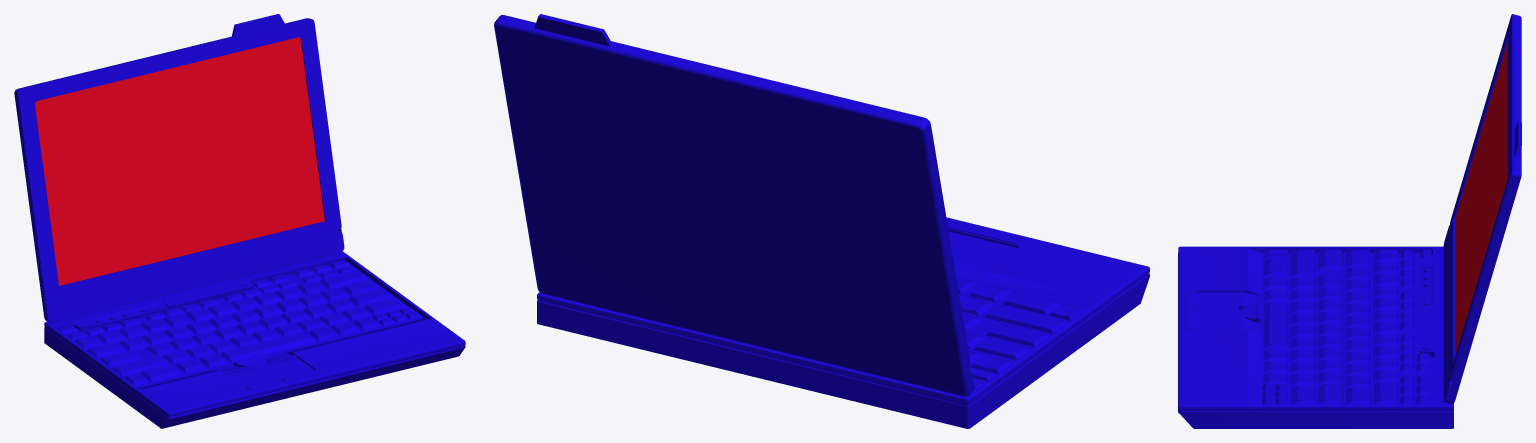
The model's file is NOTEBOOK.fbx.
3 views of the same model, side by side, from view 1: azimuth 30°, elevation 25°; view 2: azimuth 150°, elevation 25°; view 3: azimuth 270°, elevation 25° (orthographic). The views are drawn at different scales.
Visible parts, largest first — view 1: Display_low, Base_low, Button's_low, Base_display_low, Base1_low, Base2_low, Touch_low; view 2: Base2_low, Base_low, Button's_low, Touch_low, Base_display_low; view 3: Base_low, Button's_low, Display_low, Base_display_low, Base2_low, Touch_low, Base1_low.
Part boxes in pixels (x1=…): Display_low: x1=35, y1=37, x2=324, y2=285; Base_low: x1=44, y1=251, x2=465, y2=428; Button's_low: x1=58, y1=260, x2=421, y2=390; Base_display_low: x1=17, y1=19, x2=341, y2=300; Base1_low: x1=46, y1=230, x2=344, y2=322; Base2_low: x1=14, y1=14, x2=341, y2=321; Touch_low: x1=226, y1=357, x2=313, y2=387; Base2_low: x1=494, y1=14, x2=973, y2=396; Base_low: x1=537, y1=217, x2=1149, y2=428; Button's_low: x1=947, y1=221, x2=1085, y2=387; Touch_low: x1=948, y1=231, x2=1015, y2=267; Base_display_low: x1=499, y1=15, x2=970, y2=364; Base_low: x1=1178, y1=246, x2=1453, y2=428; Button's_low: x1=1186, y1=249, x2=1431, y2=404; Display_low: x1=1455, y1=42, x2=1507, y2=355; Base_display_low: x1=1450, y1=14, x2=1513, y2=381; Base2_low: x1=1445, y1=14, x2=1521, y2=403; Touch_low: x1=1196, y1=292, x2=1238, y2=330; Base1_low: x1=1443, y1=225, x2=1451, y2=402.
Bounding box in the file's own units: 23.83 × 18.53 × 21.61.
